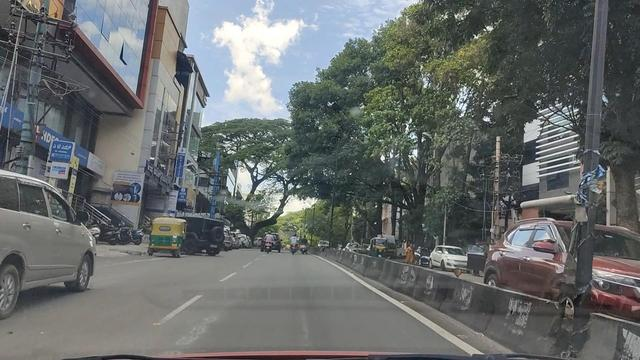RoadDamages: (171, 293, 230, 349)
